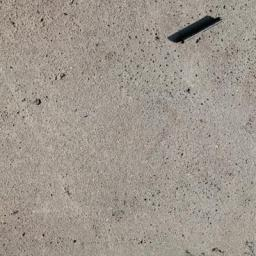FOD: (162, 15, 226, 46)
